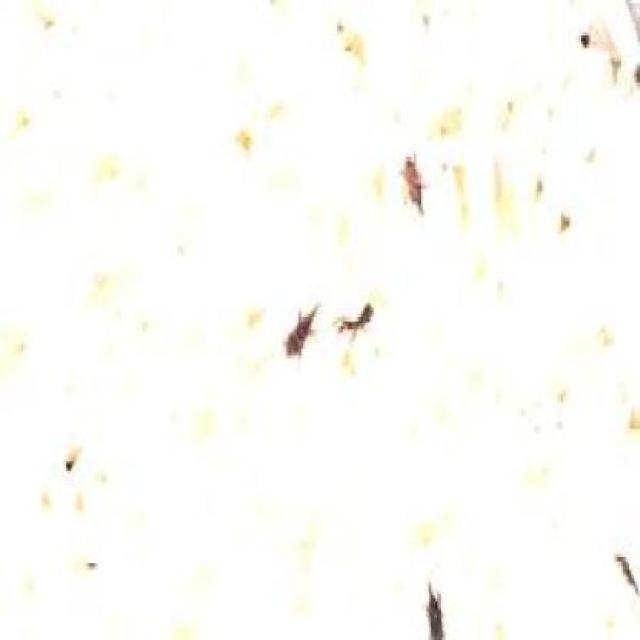rice-bug: (281, 300, 321, 360), (338, 288, 374, 344), (400, 148, 428, 218), (424, 572, 448, 640), (614, 551, 638, 597)
